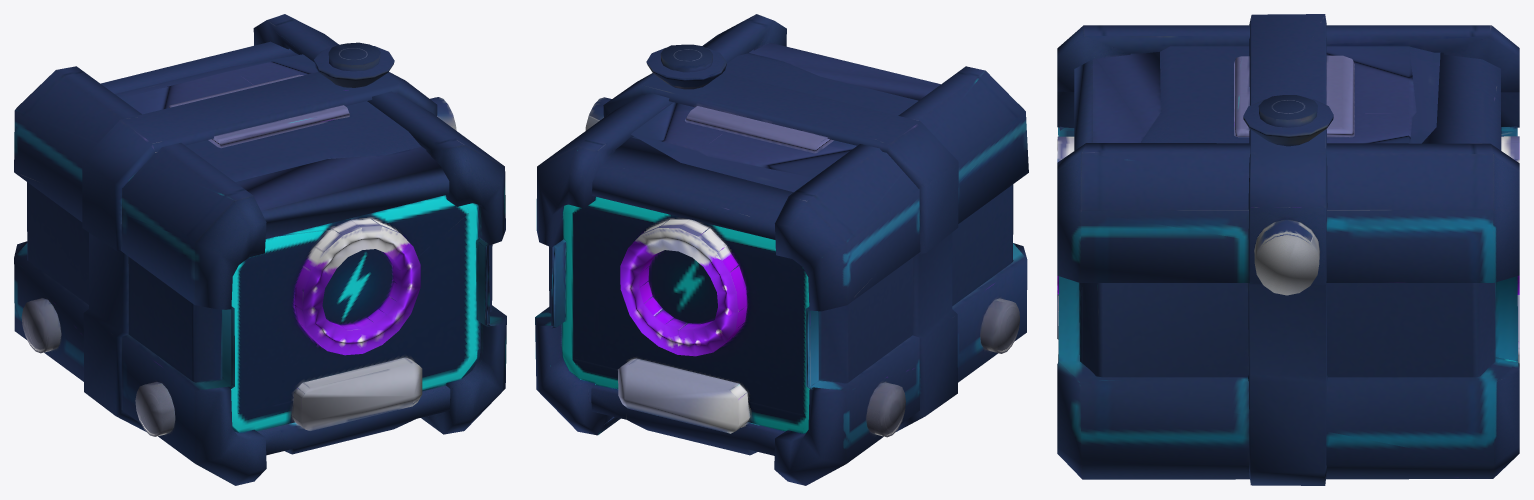
File: magnetic_ammo.glb
3 views of the same model, side by side, from view 1: azimuth 30°, elevation 25°; view 2: azimuth 150°, elevation 25°; view 3: azimuth 270°, elevation 25° (orthographic). The views are drawn at different scales.
Bounding box in the file's own units: 1 × 0.8685 × 1.
Materials: 1 (1 with a texture image).
